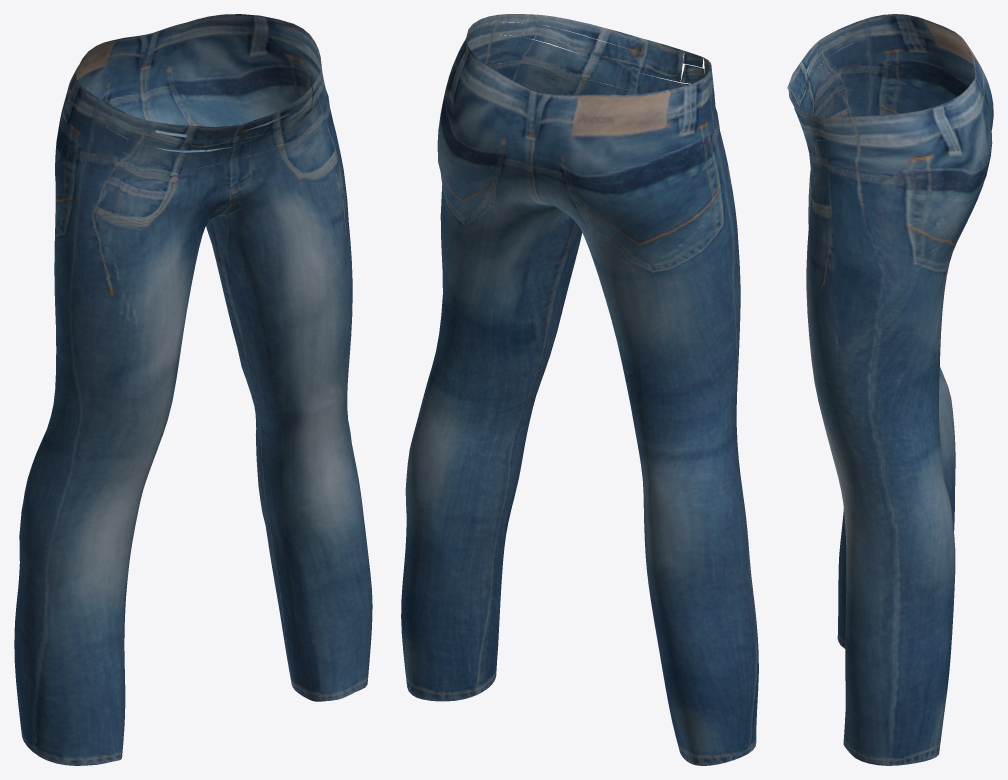
Rendered from ONFIT_Pants_BodyBuild_v7.glb.
The picture shows the model from 3 angles, left to right: view 1: azimuth 30°, elevation 25°; view 2: azimuth 150°, elevation 25°; view 3: azimuth 270°, elevation 25°; orthographic projection. The views are drawn at different scales.
Parts seen in each view (by area): view 1: ONFIT_Pants; view 2: ONFIT_Pants; view 3: ONFIT_Pants.
Part boxes in pixels (box(x1,y1,x2,y2)): ONFIT_Pants: box(14, 14, 372, 765); ONFIT_Pants: box(401, 14, 758, 765); ONFIT_Pants: box(787, 14, 993, 765).
Size of the model in its own units: 0.4695 by 0.8893 by 0.2626.
Materials: 1 (1 with a texture image).
